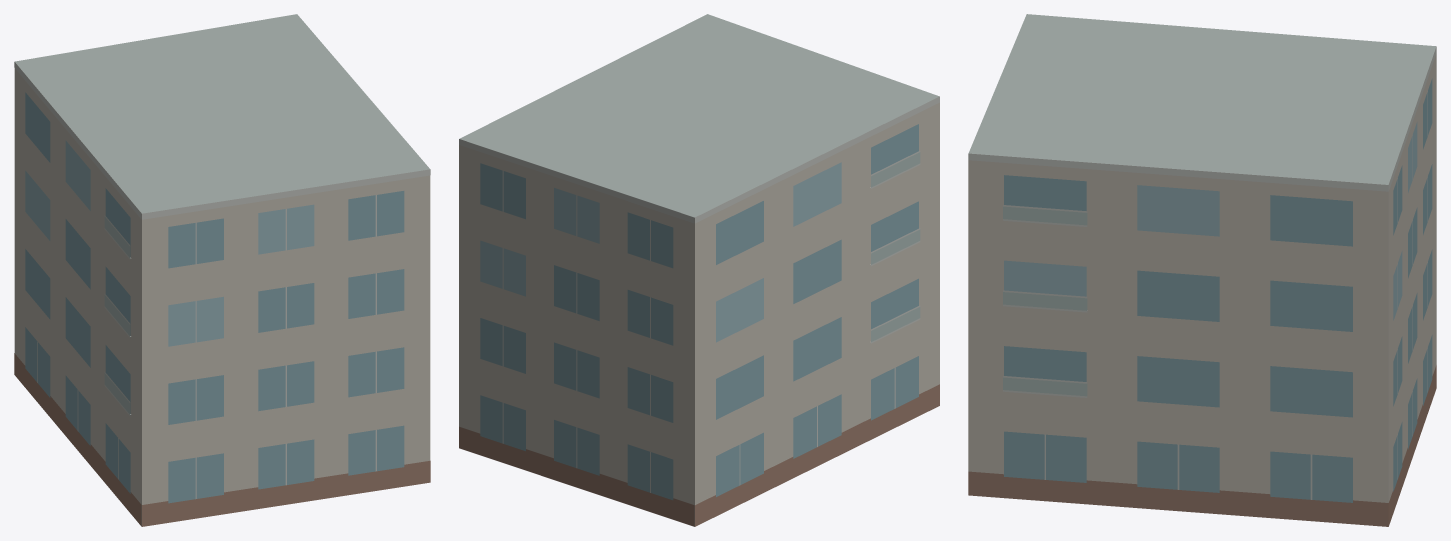
File: survey-upis-32771886.glb
3 views of the same model, side by side, from view 1: azimuth 30°, elevation 25°; view 2: azimuth 150°, elevation 25°; view 3: azimuth 270°, elevation 25° (orthographic). The views are drawn at different scales.
Parts seen in each view (by area): view 1: survey-upis-32771886.tmp; view 2: survey-upis-32771886.tmp; view 3: survey-upis-32771886.tmp.
Boxes of the visible parts, x1,y1,x2,y2 form: survey-upis-32771886.tmp: (14, 14, 430, 526); survey-upis-32771886.tmp: (459, 14, 939, 526); survey-upis-32771886.tmp: (968, 14, 1436, 526).
Size of the model in its own units: 13.42 by 12.5 by 15.52.
